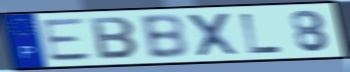8: (290, 9, 329, 53)
B: (137, 12, 191, 60), (89, 16, 141, 61)
E: (39, 16, 96, 63)
L: (240, 12, 285, 55)
X: (184, 11, 242, 58)
